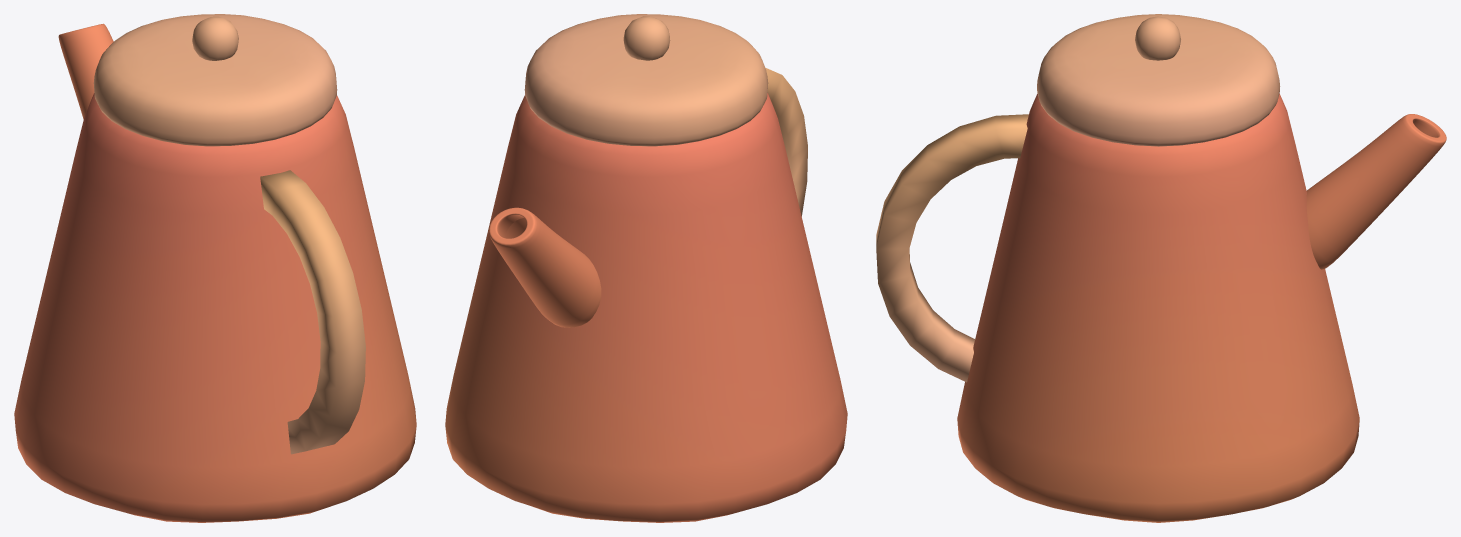
File: Teapot001.fbx
3 renders of one model, left to right at view 1: azimuth 30°, elevation 25°; view 2: azimuth 150°, elevation 25°; view 3: azimuth 270°, elevation 25°, orthographic.
Visible parts, largest first — view 1: Teapot, TeapotLid; view 2: Teapot, TeapotLid; view 3: Teapot, TeapotLid.
Boxes of the visible parts, box(x1,y1,x2,y2) form: Teapot: box(14, 23, 416, 522); TeapotLid: box(93, 14, 337, 146); Teapot: box(445, 68, 847, 522); TeapotLid: box(524, 14, 768, 146); Teapot: box(876, 93, 1446, 522); TeapotLid: box(1037, 14, 1280, 146).
Bounding box in the file's own units: 91.86 × 108 × 130.
1 material, 1 textured.
